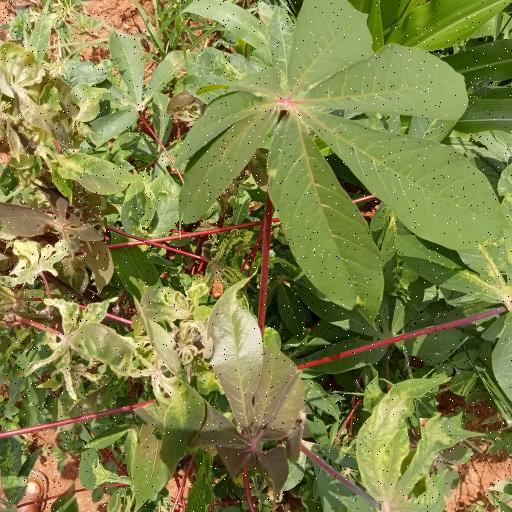Cassava_Healthy: (179, 2, 501, 308)
